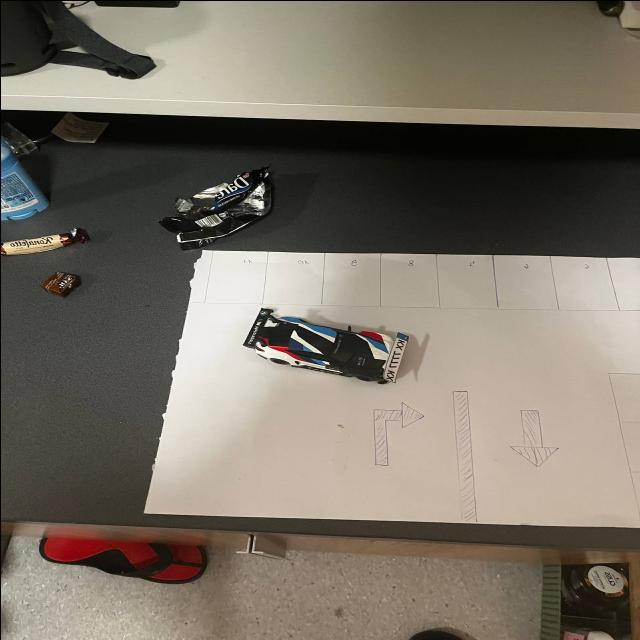cars: (215, 296, 428, 397)
